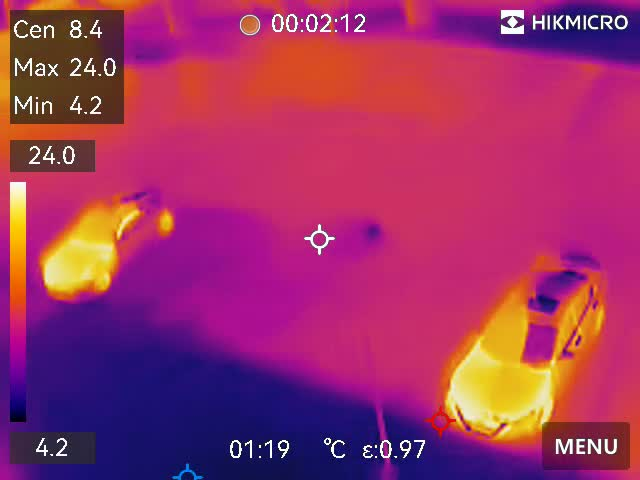smallCar: (441, 224, 614, 461), (38, 184, 178, 302)
